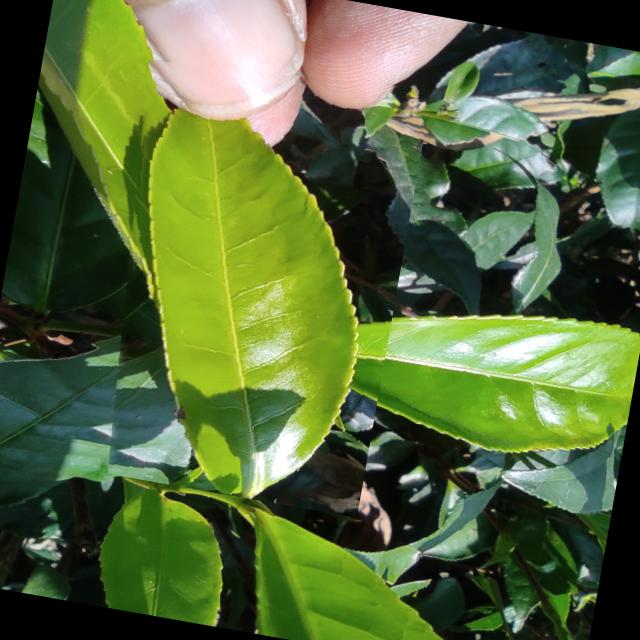Category C 4-7 days: (75, 40, 430, 517)
